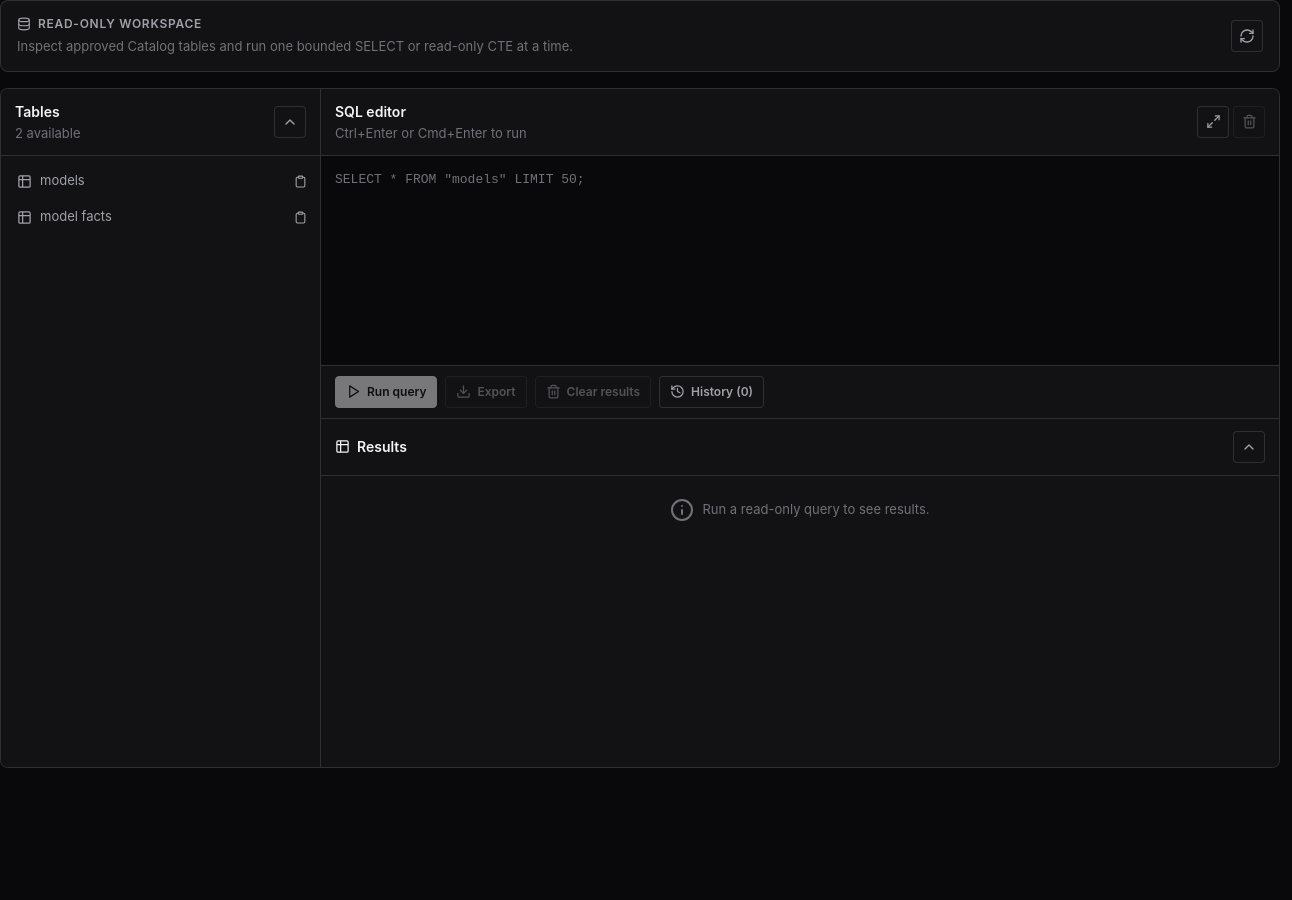
Test case: DatabaseBrowserPage › does not crash when clipboard and download APIs fail, and has no nested controls
This screenshot has width=1292, height=900.
Expected: the text "models" is shown, [40,171,85,191]
Step 1. Click the button named "Copy table name models" → x=300, y=181, box [288,169,312,193]
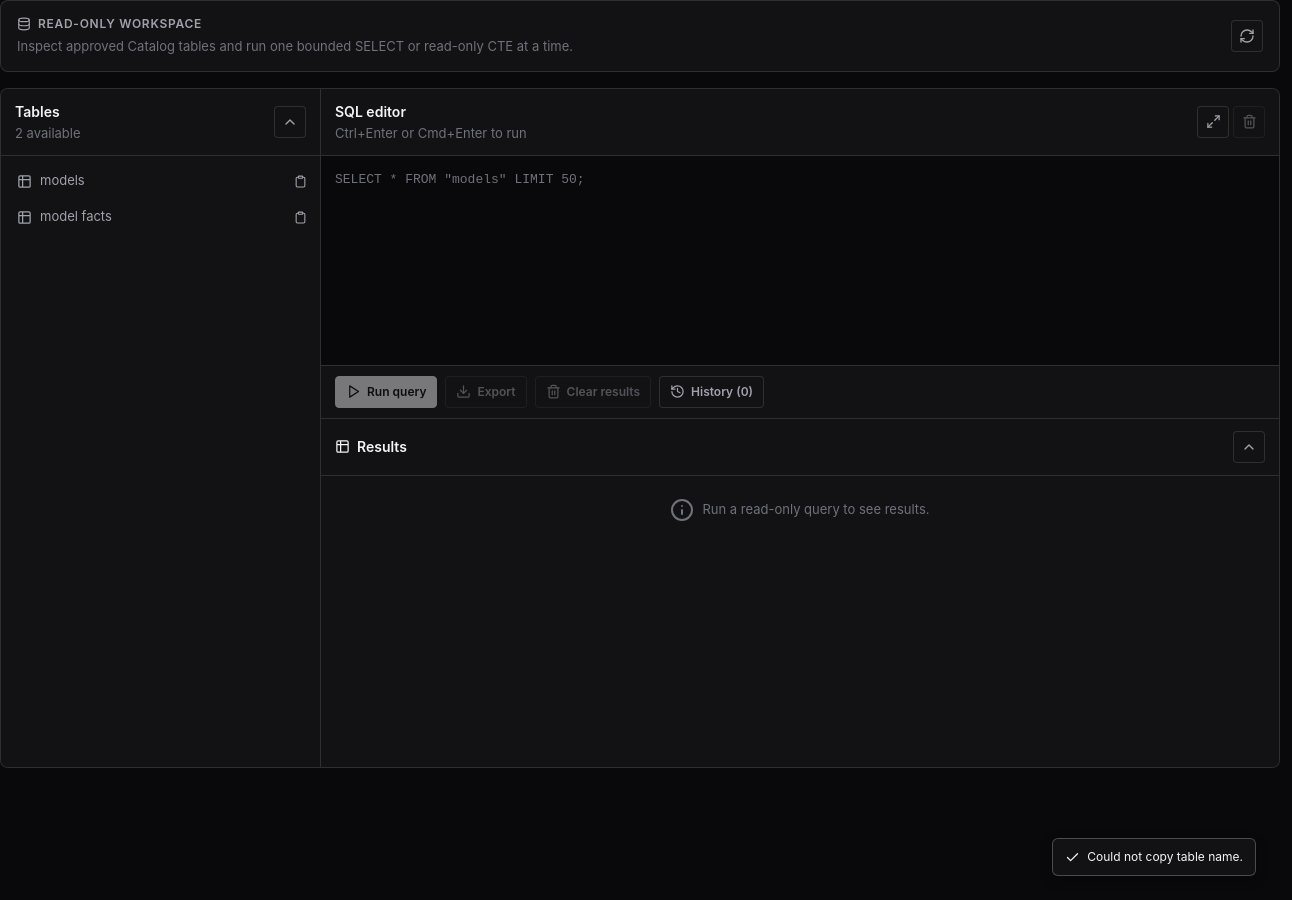
Expected: the text "Could not copy table name." is shown, [1052,838,1256,876]
Step 2. Type "SELECT 1" into the text box named "Read-only SQL query" → x=800, y=260, box [321,156,1279,364]
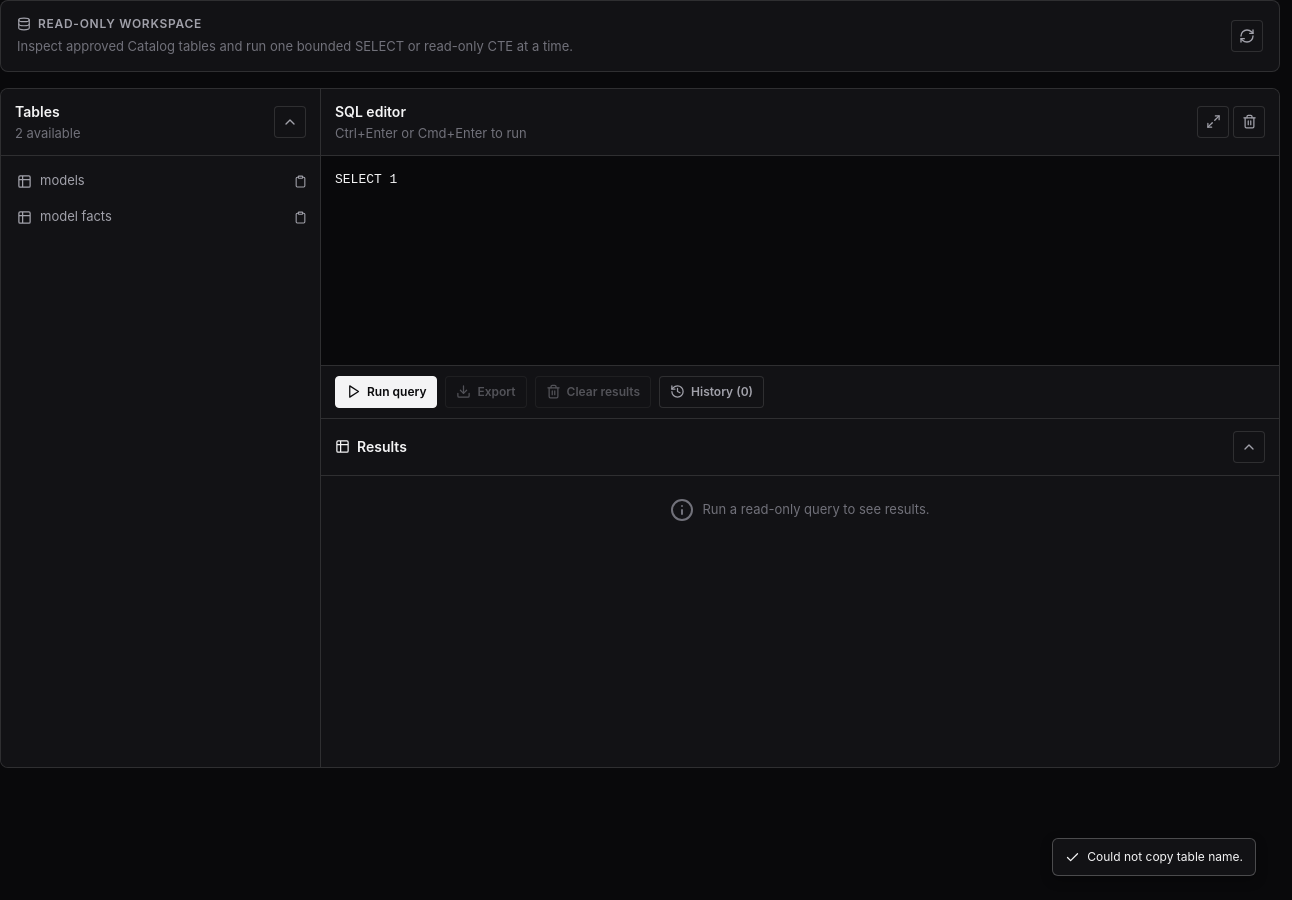
Step 3. Click the button "Run query" → x=386, y=392, box [335,376,438,408]
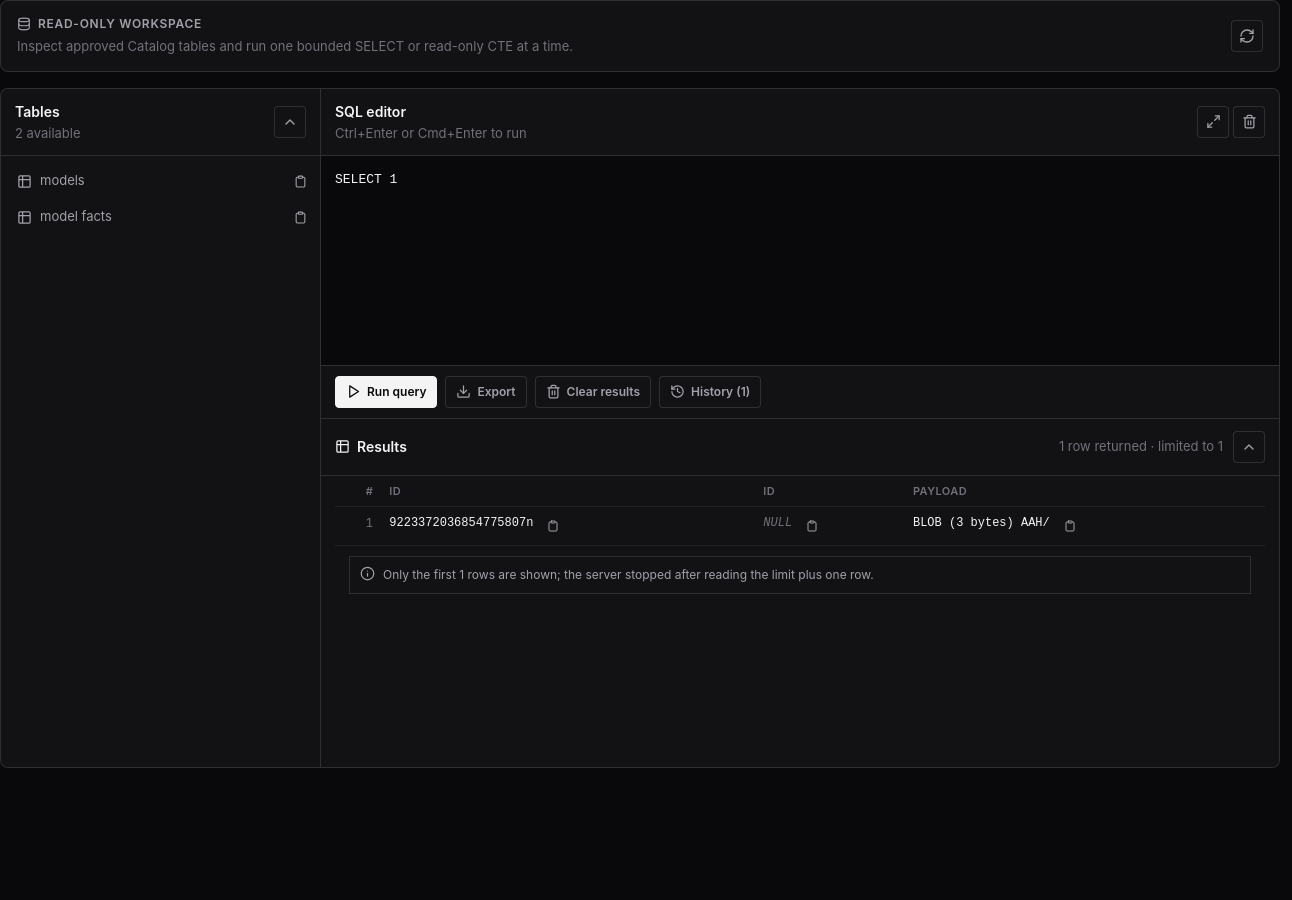
Expected: the text "9223372036854775807n" is shown, [389,514,533,532]
Step 4. Click the button with aria-label "Export query results" → x=486, y=392, box [446,376,527,408]
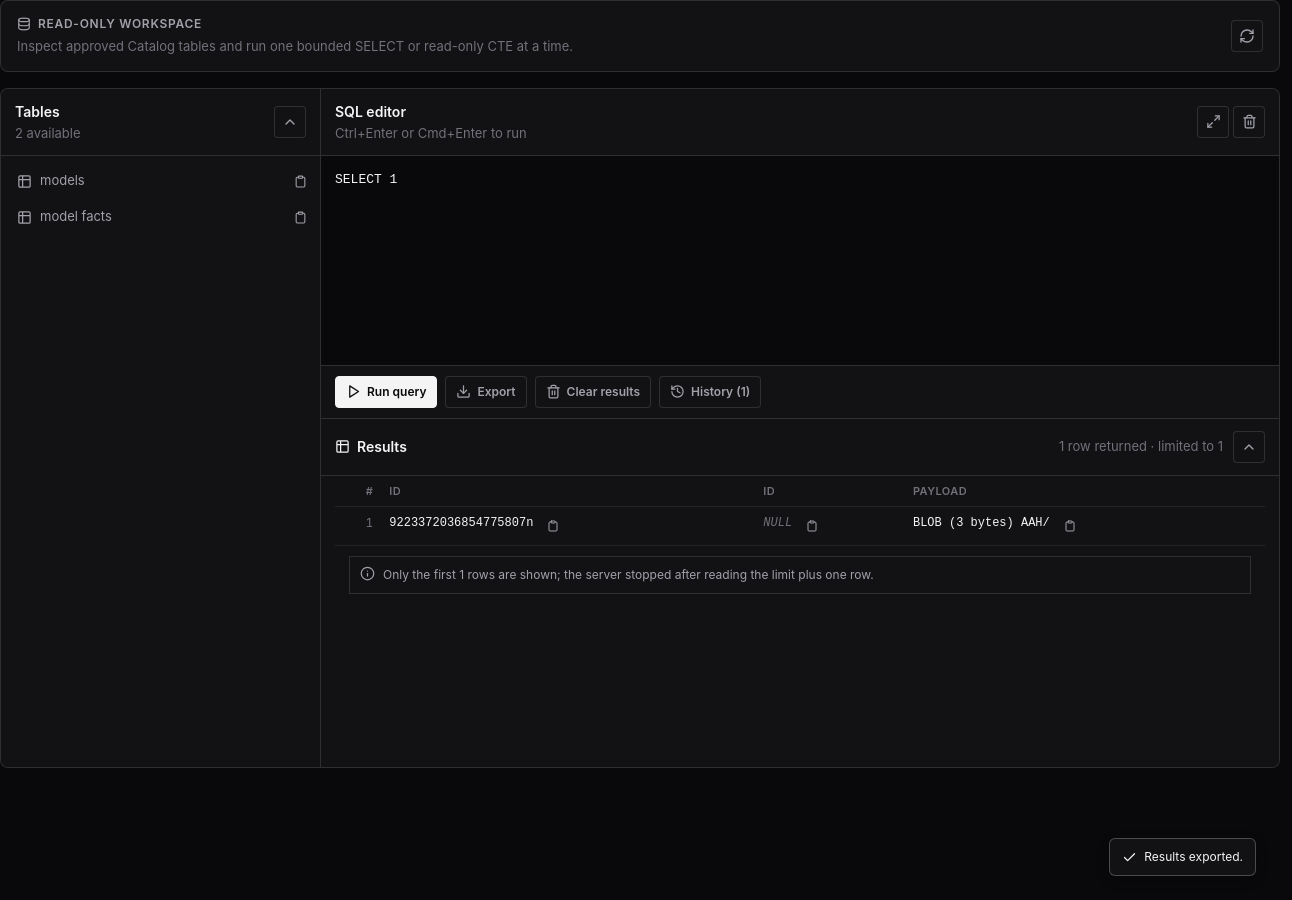
Expected: the text "Results exported." is shown, [1109,838,1256,876]
